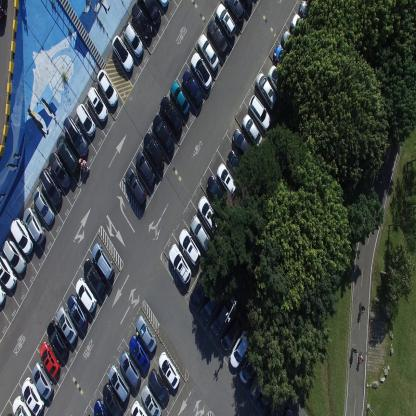car: (62, 116, 89, 160), (38, 168, 63, 209), (1, 236, 27, 275), (55, 135, 79, 177), (82, 257, 106, 299), (178, 227, 202, 269), (9, 216, 33, 257), (158, 95, 182, 136), (168, 242, 191, 284), (45, 321, 69, 361), (189, 213, 211, 256), (152, 113, 174, 155), (95, 68, 118, 108), (210, 296, 233, 336), (107, 363, 130, 403), (91, 241, 114, 281), (22, 206, 45, 246), (48, 152, 72, 190), (21, 377, 45, 415), (198, 195, 220, 236), (248, 93, 271, 132), (125, 168, 147, 208), (158, 350, 180, 390), (190, 51, 212, 91), (198, 33, 220, 73), (229, 330, 252, 368), (31, 188, 54, 226), (111, 34, 134, 72), (131, 1, 152, 42), (119, 349, 141, 388), (254, 71, 276, 110), (147, 368, 170, 405), (57, 306, 78, 346), (215, 1, 236, 41), (143, 131, 164, 171), (135, 314, 157, 352), (31, 361, 53, 399), (181, 68, 203, 106), (38, 341, 60, 378), (86, 85, 108, 122), (122, 21, 144, 58), (128, 335, 150, 372), (66, 293, 88, 330), (206, 174, 228, 211), (290, 11, 312, 48), (207, 19, 229, 56), (189, 270, 209, 310), (135, 149, 156, 187), (273, 44, 296, 78), (75, 104, 97, 139), (238, 348, 260, 383), (249, 364, 270, 400), (169, 80, 190, 116), (232, 128, 254, 162), (76, 276, 96, 313), (102, 382, 124, 415), (281, 29, 303, 62), (242, 112, 262, 148), (268, 64, 288, 100), (216, 163, 236, 198), (199, 288, 220, 321), (256, 379, 276, 413), (0, 250, 17, 290), (140, 385, 162, 415), (227, 148, 246, 182), (298, 0, 321, 28), (220, 319, 241, 349), (268, 386, 289, 416), (139, 0, 161, 27), (222, 0, 245, 25), (12, 396, 33, 415), (93, 397, 110, 415), (131, 400, 149, 416), (0, 278, 7, 307), (279, 404, 294, 415), (155, 0, 169, 9)
